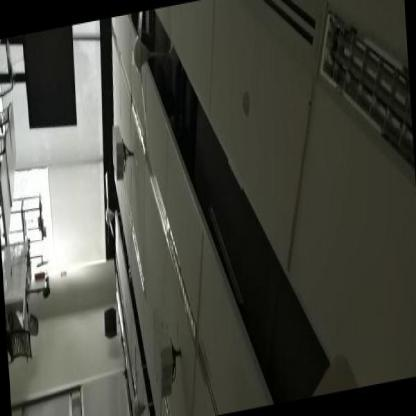light_off: (311, 0, 414, 207), (154, 194, 212, 353), (126, 85, 152, 162)
